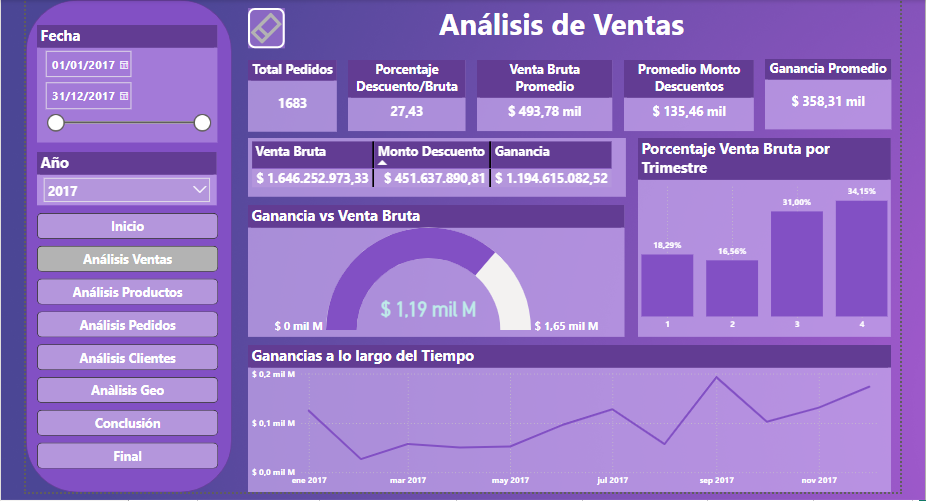

What the dashboard file says about the page in this screenshot:
{"tool":"powerbi","page":{"name":"Análisis Ventas","canvas":[1280,720],"ordinal":1},"visuals":[{"type":"shape","box":[0,0,301.2,720.6],"z":0},{"type":"textbox","box":[325.5,0,929.4,71.2],"z":1000},{"type":"pageNavigator","box":[16.2,311.9,265,378.6],"z":2000},{"type":"slicer","title":"Fecha","fields":{"Values":["Calendario.Fecha"]},"box":[16.2,37.2,263.9,171.6],"z":3000},{"type":"card","title":"Total Pedidos","fields":{"Values":["Medidas.Total_Pedidos_Ventas"]},"box":[325.1,88,130.4,105],"z":4000},{"type":"card","title":"Porcentaje Descuento/Bruta","fields":{"Values":["Medidas.Total_Porcentaje_Descuentos_Aplicados"]},"box":[471.9,87.8,172.3,104],"z":5000},{"type":"card","title":"Promedio Monto Descuentos","fields":{"Values":["Medidas.Promedio_Monto_Descuentos"]},"box":[875.1,87.5,190.4,104.4],"z":6000},{"type":"gauge","title":"Ganancia vs Venta Bruta","fields":{"Y":["Medidas.Total_Ganancias"],"MaxValue":["Medidas.Total_Venta_Bruta"]},"box":[325.6,299.8,551.3,192.9],"z":7000},{"type":"card","title":"Venta Bruta Promedio","fields":{"Values":["Medidas.Promedio_Venta_Bruta"]},"box":[660.6,87.5,198,104.4],"z":8000},{"type":"card","title":"Ganancia Promedio","fields":{"Values":["Medidas.Promedio_Ganancia"]},"box":[1081.9,86.3,184.6,103.3],"z":9000},{"type":"lineChart","title":"Ganancias a lo largo del Tiempo","fields":{"Y":["Sum(Ventas.Ganancia)"],"Category":["Calendario.Fecha.Variación.Jerarquía de fechas.Año","Calendario.Fecha.Variación.Jerarquía de fechas.Trimestre","Calendario.Fecha.Variación.Jerarquía de fechas.Mes"]},"box":[325.5,505.1,941.1,216.5],"z":10000},{"type":"slicer","title":"Año","fields":{"Values":["Calendario.Año"]},"box":[16.2,221.7,263.2,77.5],"z":11000},{"type":"tableEx","fields":{"Values":["Sum(Ventas.Venta_Bruta)","Sum(Ventas.Monto_Descuento)","Sum(Ventas.Ganancia)"]},"box":[325.5,202.6,552.7,86],"z":12000},{"type":"columnChart","title":"Porcentaje Venta Bruta por Trimestre","fields":{"Category":["Calendario.Trimestre"],"Y":["Medidas.Total_Venta_Bruta"]},"box":[895.8,201.6,370.4,291.1],"z":13000},{"type":"actionButton","box":[324.3,12.1,53.8,59],"z":14000}]}

Visuals, with their boxes on the page's 1280x720 design canvas (x1, y1, x2, y2). These are canvas units, not pixel positions in the 926x501 screenshot, which may show the page scaled, cropped or inside an application window:
shape: pyautogui.locateOnScreen(0, 0, 301, 721)
textbox: pyautogui.locateOnScreen(326, 0, 1255, 71)
pageNavigator: pyautogui.locateOnScreen(16, 312, 281, 690)
"Fecha" slicer: pyautogui.locateOnScreen(16, 37, 280, 209)
"Total Pedidos" card: pyautogui.locateOnScreen(325, 88, 456, 193)
"Porcentaje Descuento/Bruta" card: pyautogui.locateOnScreen(472, 88, 644, 192)
"Promedio Monto Descuentos" card: pyautogui.locateOnScreen(875, 88, 1066, 192)
"Ganancia vs Venta Bruta" gauge: pyautogui.locateOnScreen(326, 300, 877, 493)
"Venta Bruta Promedio" card: pyautogui.locateOnScreen(661, 88, 859, 192)
"Ganancia Promedio" card: pyautogui.locateOnScreen(1082, 86, 1266, 190)
"Ganancias a lo largo del Tiempo" lineChart: pyautogui.locateOnScreen(326, 505, 1267, 722)
"Año" slicer: pyautogui.locateOnScreen(16, 222, 279, 299)
tableEx - Sum(Ventas.Venta_Bruta) x Sum(Ventas.Monto_Descuento): pyautogui.locateOnScreen(326, 203, 878, 289)
"Porcentaje Venta Bruta por Trimestre" columnChart: pyautogui.locateOnScreen(896, 202, 1266, 493)
actionButton: pyautogui.locateOnScreen(324, 12, 378, 71)
